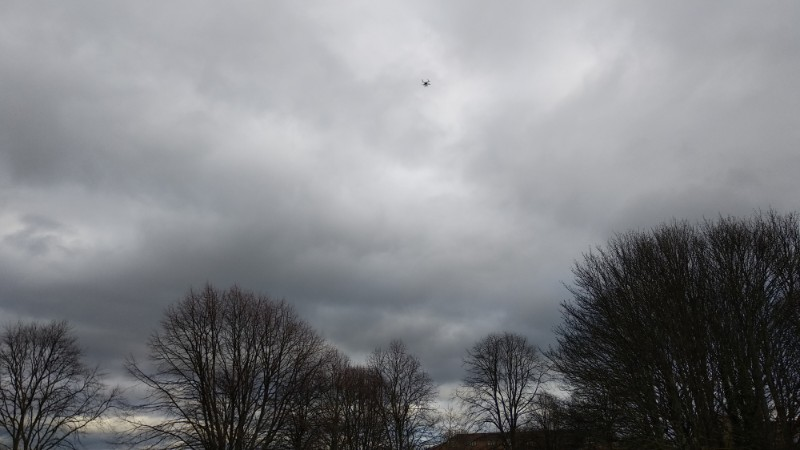drone: (420, 79, 433, 88)
